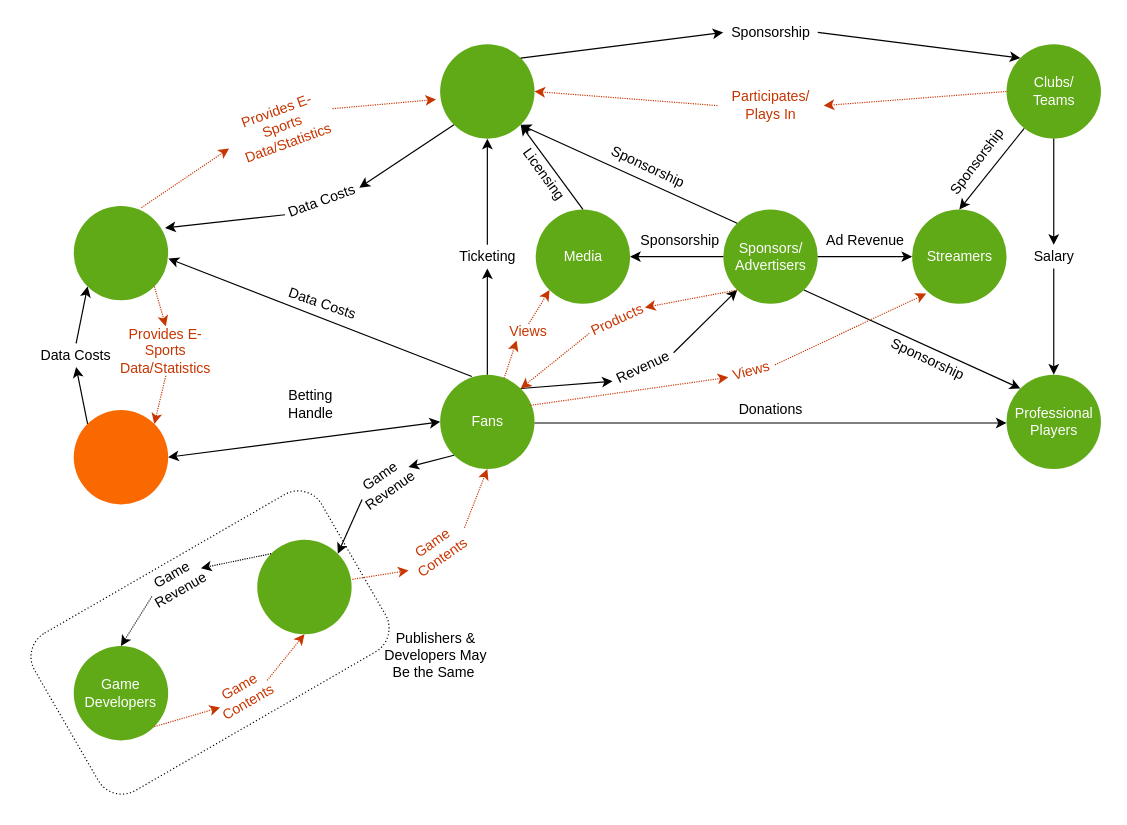
The diagram is 1127 pixels wide and 825 high, and some of its shapes have lost their labels. Here are the shapes that lost their labels. From the top down, the centre of each, then its label:
pixel 487 91: Leagues/ Tournaments
pixel 120 252: Data Providers
pixel 120 456: Betting Platforms
pixel 304 586: Game Publishers
